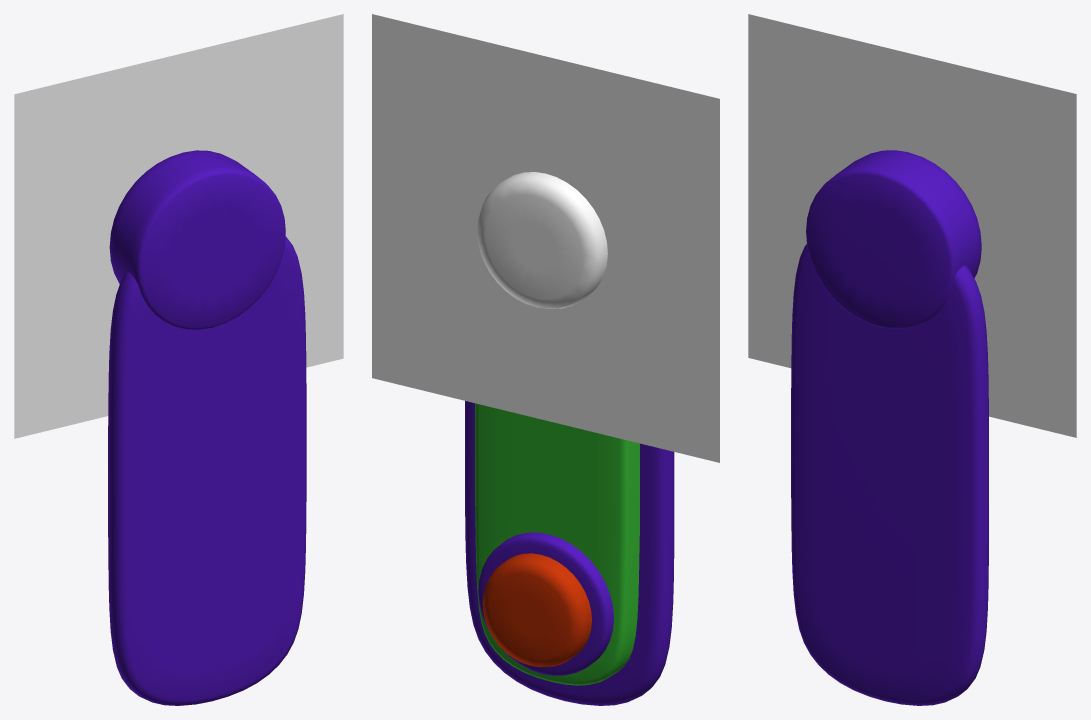
File: TouchSign_2.fbx
3 renders of one model, left to right at view 1: azimuth 30°, elevation 25°; view 2: azimuth 150°, elevation 25°; view 3: azimuth 330°, elevation 25°, orthographic. The views are drawn at different scales.
Visible parts, largest first — view 1: TouchSign_2, Plane; view 2: Plane, TouchSign_2; view 3: TouchSign_2, Plane.
Boxes of the visible parts, box(x1,y1,x2,y2) form: TouchSign_2: box(108, 150, 306, 705); Plane: box(14, 14, 343, 438); Plane: box(372, 14, 719, 462); TouchSign_2: box(465, 172, 674, 705); TouchSign_2: box(791, 150, 988, 705); Plane: box(748, 14, 1076, 437).
Size of the model in its own units: 70 by 17.33 by 128.
